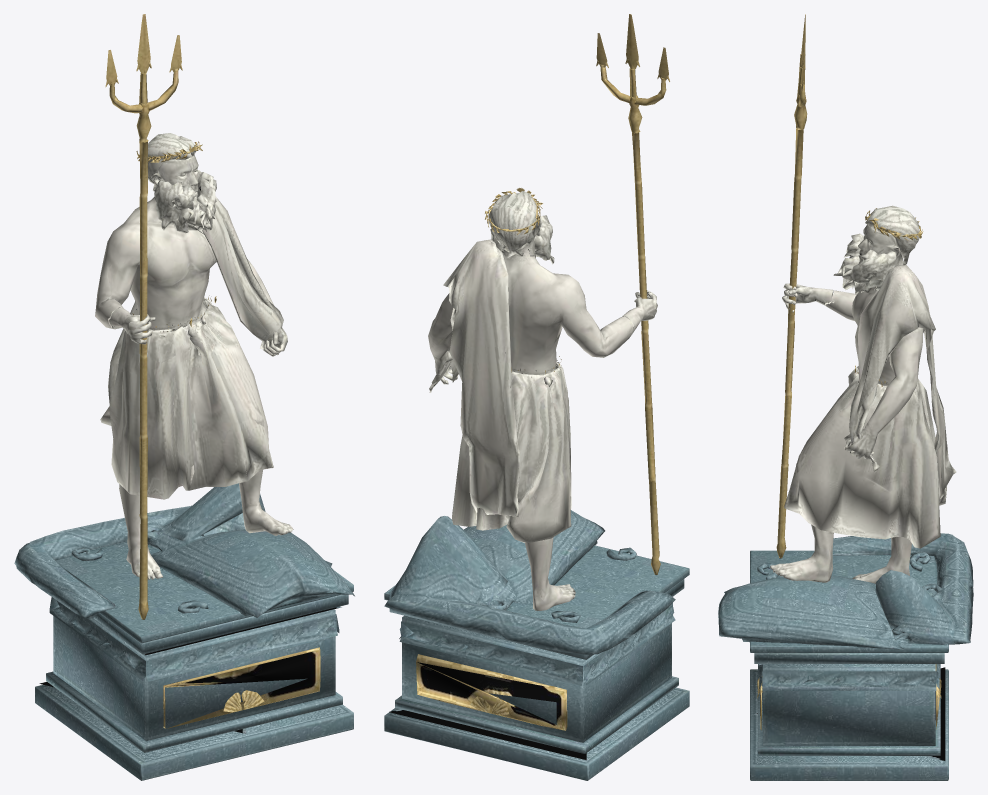
The model's file is guardian-tides-lod1.glb.
The picture shows the model from 3 angles, left to right: view 1: azimuth 30°, elevation 25°; view 2: azimuth 150°, elevation 25°; view 3: azimuth 270°, elevation 25°; orthographic projection. The views are drawn at different scales.
Parts seen in each view (by area): view 1: TIDES__PEDESTAL, TIDES__CLOTH, TIDES__WAVES, TIDES__BODY, TIDES__TRIDENT, TIDES__DETAILS, TIDES__HAIR_BEARD, TIDES__FACE, TIDES__HAND_GRIP; view 2: TIDES__PEDESTAL, TIDES__CLOTH, TIDES__WAVES, TIDES__BODY, TIDES__DETAILS, TIDES__TRIDENT, TIDES__HAIR_BEARD, TIDES__HAND_GRIP; view 3: TIDES__PEDESTAL, TIDES__CLOTH, TIDES__WAVES, TIDES__BODY, TIDES__TRIDENT, TIDES__HAIR_BEARD, TIDES__HAND_GRIP, TIDES__FACE, TIDES__DETAILS.
Boxes of the visible parts, x1,y1,x2,y2 form: TIDES__PEDESTAL: (35, 541, 353, 780); TIDES__CLOTH: (100, 196, 283, 499); TIDES__WAVES: (14, 483, 354, 618); TIDES__BODY: (95, 176, 293, 579); TIDES__TRIDENT: (105, 14, 182, 619); TIDES__DETAILS: (132, 141, 320, 728); TIDES__HAIR_BEARD: (148, 133, 216, 234); TIDES__FACE: (152, 156, 199, 200); TIDES__HAND_GRIP: (109, 308, 155, 344); TIDES__PEDESTAL: (384, 545, 689, 780); TIDES__CLOTH: (429, 239, 571, 542); TIDES__WAVES: (384, 510, 675, 654); TIDES__BODY: (428, 245, 633, 610); TIDES__DETAILS: (416, 188, 567, 730); TIDES__TRIDENT: (596, 14, 669, 574); TIDES__HAIR_BEARD: (489, 191, 554, 264); TIDES__HAND_GRIP: (622, 290, 657, 333); TIDES__PEDESTAL: (750, 550, 948, 780); TIDES__CLOTH: (784, 265, 956, 548); TIDES__WAVES: (718, 533, 973, 649); TIDES__BODY: (770, 253, 925, 583); TIDES__TRIDENT: (776, 14, 807, 558); TIDES__HAIR_BEARD: (833, 205, 919, 295); TIDES__HAND_GRIP: (782, 283, 834, 312); TIDES__FACE: (858, 224, 900, 266); TIDES__DETAILS: (757, 208, 941, 730).
Bounding box in the file's own units: 3.37 × 9.9 × 3.35.
Materials: 3 (3 with a texture image).
